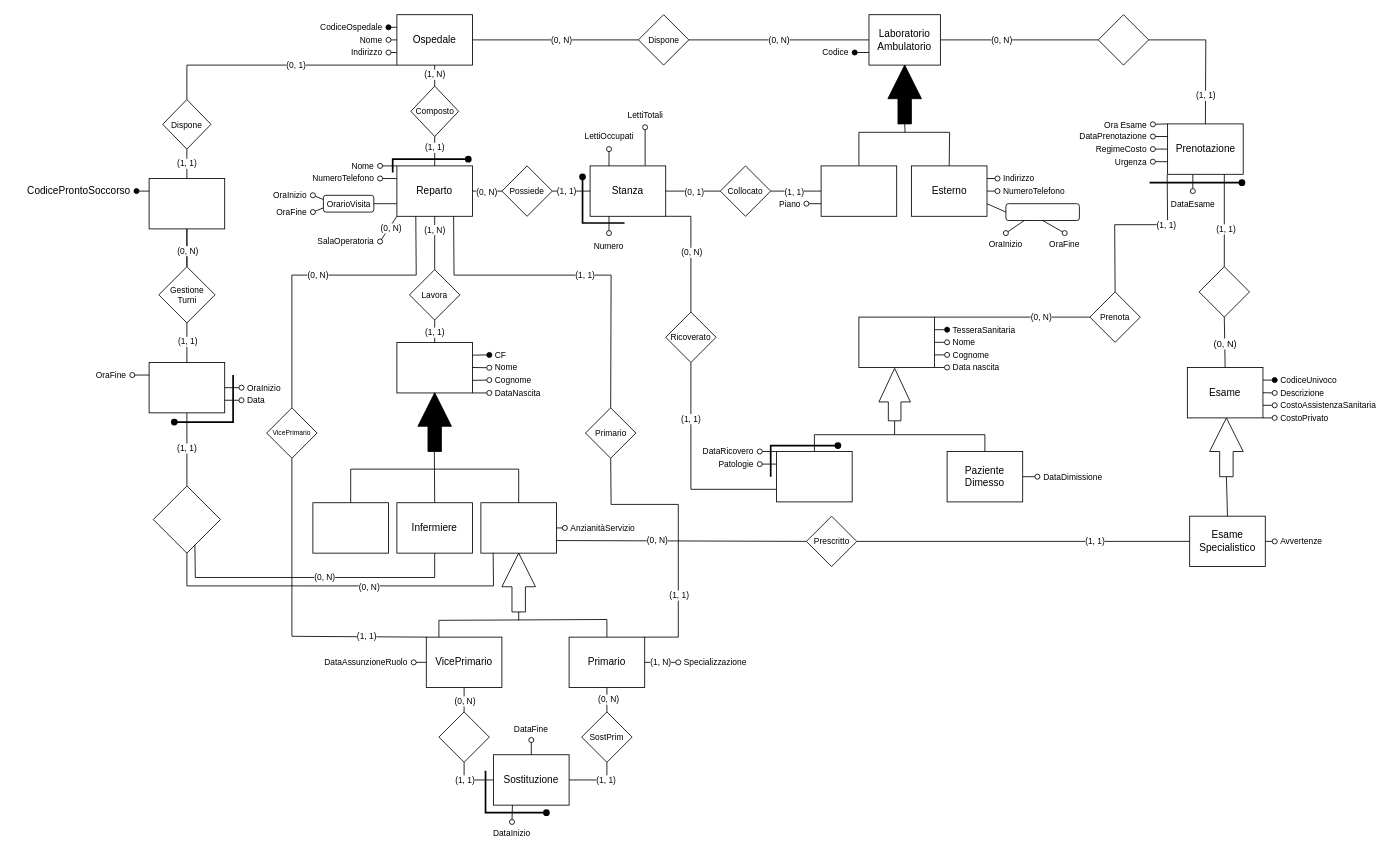
The diagram is 1394 pixels wide and 858 high, and some of its shapes have lost their labels. Here are the shapes that lost their labels. From the top down, the box of each, then its label:
(1097, 14, 1149, 65): Presso
(148, 178, 225, 229): Pronto Soccorso
(820, 165, 897, 216): Interno
(1005, 203, 1079, 220): OrarioApertura
(1198, 266, 1250, 317): E-P
(858, 316, 934, 368): Paziente
(148, 362, 225, 413): Turno Lavorativo
(396, 342, 472, 393): Personale
(776, 451, 852, 502): Paziente Ricoverato
(152, 485, 220, 553): Assegnazione Turno
(312, 502, 388, 553): Personale Amministrativo
(480, 502, 556, 553): Personale Medico
(438, 711, 489, 762): SostVice
